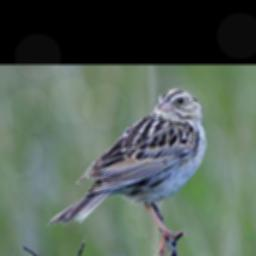Sparrow: (45, 88, 206, 256)
